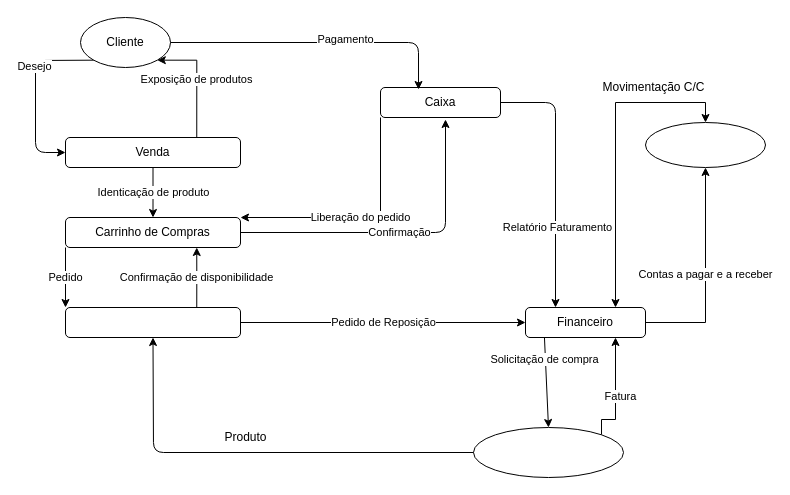
The diagram is 790 pixels wide and 495 high, and some of its shapes have lost their labels. The shapes that lost their labels are listed below. From the top down, each one's centre as x and y in pixels, then its label:
At (x=705, y=145): "Banco".
At (x=152, y=322): "Estoque".
At (x=548, y=452): "Fornecedor".
